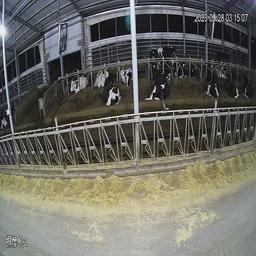cow: (143, 63, 176, 107), (98, 72, 125, 107), (203, 64, 223, 103), (66, 68, 90, 100), (150, 40, 178, 64), (226, 72, 245, 104), (121, 56, 132, 91), (243, 69, 254, 103), (191, 55, 201, 89), (180, 57, 191, 86), (94, 64, 108, 86)
